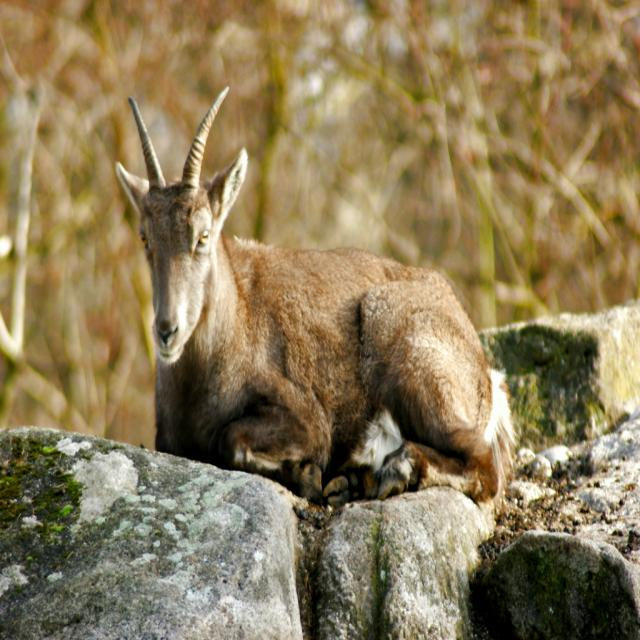Goat: (113, 85, 517, 505)
